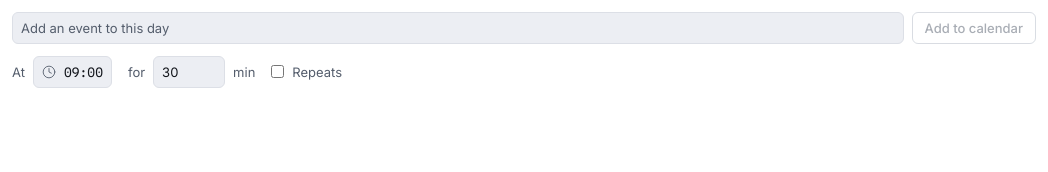
Test: what the daemon refuses › says its own sentence when the daemon did not answer at all
The width and height of the screenshot is (1048, 172).
In the field named "Title": [458, 28] box top-left (12, 12), bottom-right (904, 44), type "Coffee"
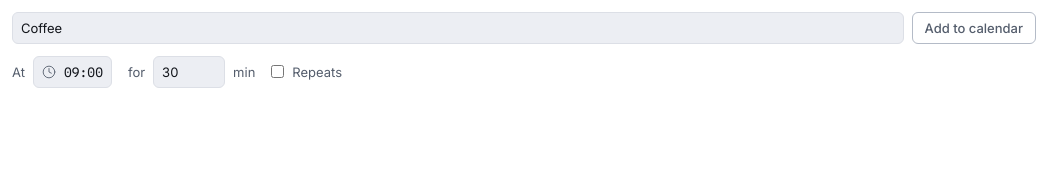
Click the button "Add to calendar": [974, 28] box top-left (912, 12), bottom-right (1036, 44)
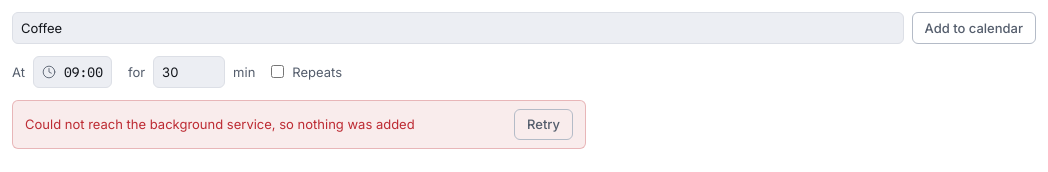
Expected: the text "Could not reach the background service, so nothing was added" is shown, top-left (25, 116), bottom-right (415, 132)
